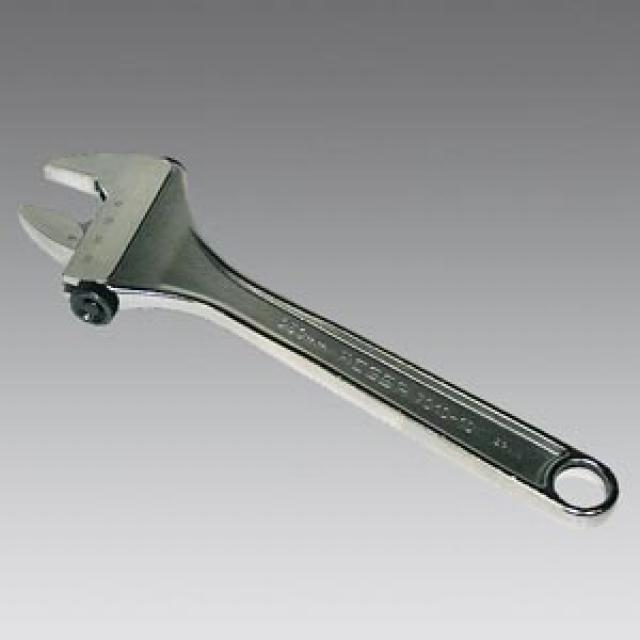wrench: (12, 137, 624, 536)
